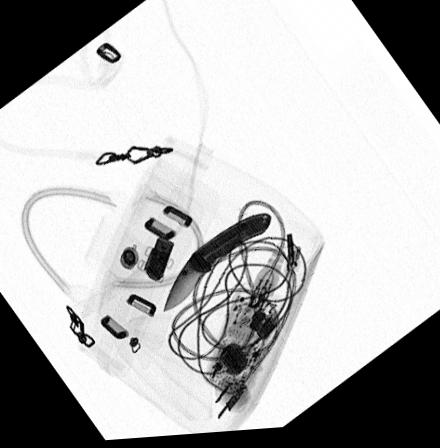Knife: (163, 212, 274, 315)
